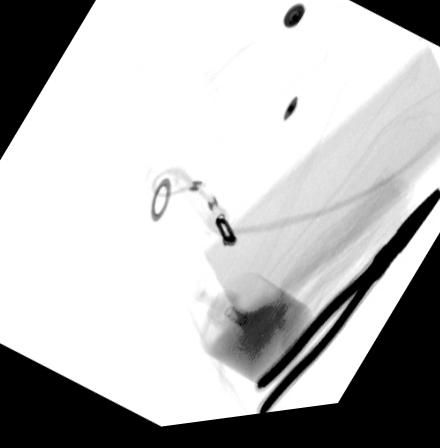Pliers: (254, 197, 440, 421)
